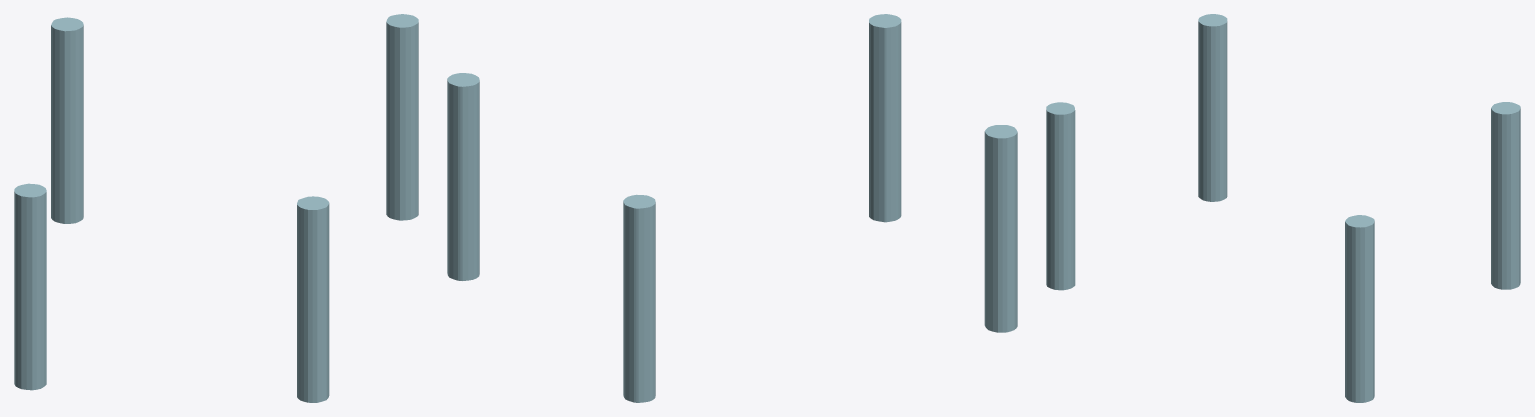
File: Incredible Stantia (1).glb
3 views of the same model, side by side, from view 1: azimuth 30°, elevation 25°; view 2: azimuth 150°, elevation 25°; view 3: azimuth 270°, elevation 25° (orthographic). The views are drawn at different scales.
Parts seen in each view (by area): view 1: Mesh_Mesh_head_geo.001_lambert2SG.001; view 2: Mesh_Mesh_head_geo.001_lambert2SG.001; view 3: Mesh_Mesh_head_geo.001_lambert2SG.001.
Part boxes in pixels (x1,y1,x2,y2): Mesh_Mesh_head_geo.001_lambert2SG.001: [14, 14, 418, 402]; Mesh_Mesh_head_geo.001_lambert2SG.001: [447, 14, 1017, 402]; Mesh_Mesh_head_geo.001_lambert2SG.001: [1046, 14, 1520, 402].
Size of the model in its own units: 0.0339 by 0.013 by 0.0319.
